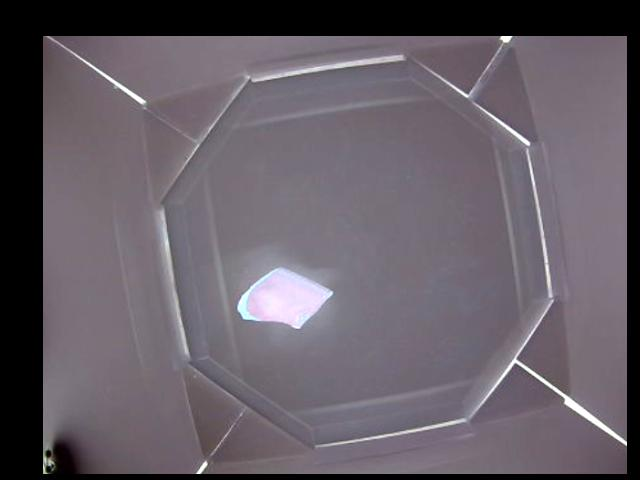China: (236, 265, 333, 326)
